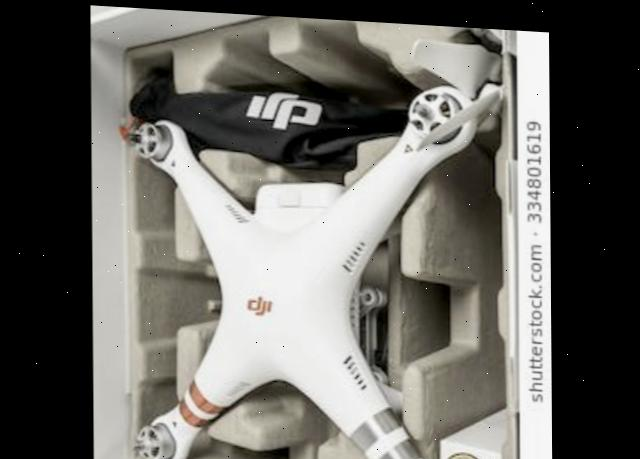drone: (111, 5, 505, 459)
